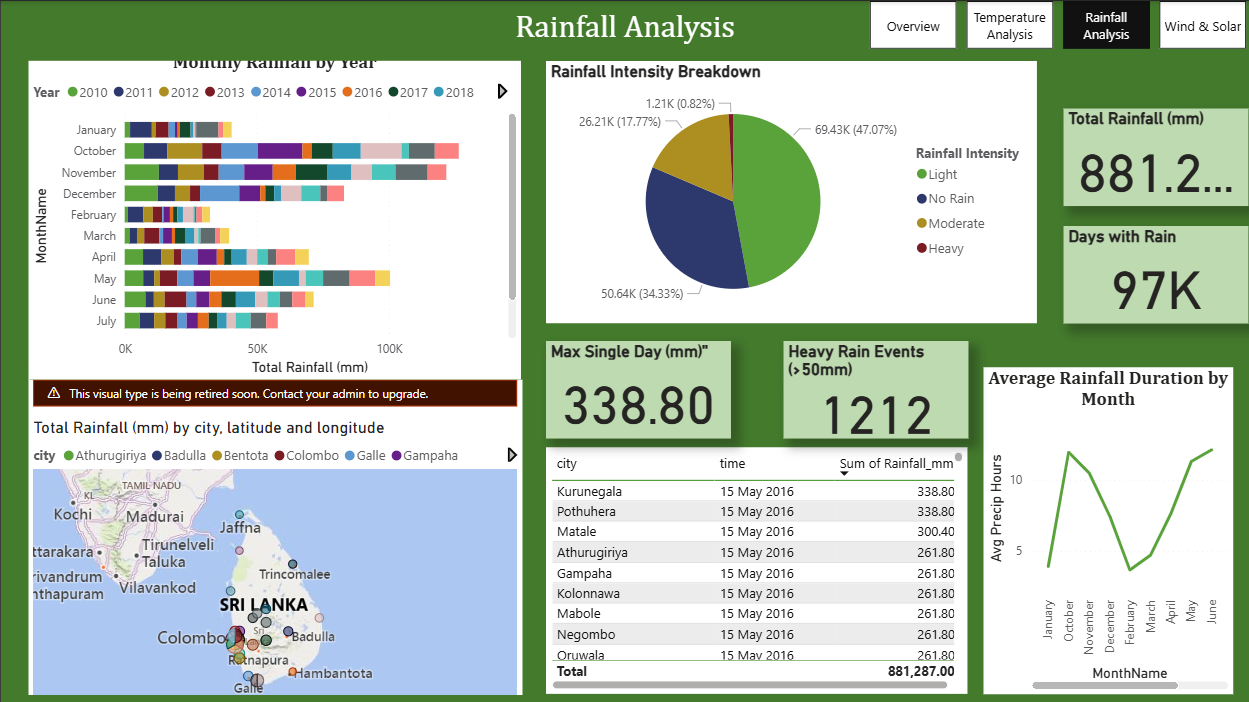

The page's visual inventory and layout, read from the dashboard file:
{"tool":"powerbi","page":{"name":"Rainfall Analysis","canvas":[1280,720],"ordinal":2},"visuals":[{"type":"barChart","title":"Monthly Rainfall by Year","fields":{"Category":["SriLanka_Weather_in_Years.MonthName"],"Y":["DateTable.Total Rainfall (mm)"],"Series":["DateTable.Year"]},"box":[28.6,51.4,505,337.1],"z":0},{"type":"map","fields":{"Y":["SriLanka_Weather_in_Years.latitude"],"X":["SriLanka_Weather_in_Years.longitude"],"Series":["SriLanka_Weather_in_Years.city"],"Size":["DateTable.Total Rainfall (mm)"]},"box":[28.3,388.7,505.7,322.6],"z":1},{"type":"lineChart","title":"Average Rainfall Duration by Month","fields":{"Category":["SriLanka_Weather_in_Years.MonthName"],"Y":["DateTable.Avg Precip Hours"]},"box":[1007.4,375,255.9,335.3],"z":2},{"type":"tableEx","fields":{"Values":["SriLanka_Weather_in_Years.city","SriLanka_Weather_in_Years.time","Sum(SriLanka_Weather_in_Years.Rainfall_mm)"]},"box":[558.8,457.4,432.4,252.9],"z":3},{"type":"card","title":"Total Rainfall (mm)","fields":{"Values":["DateTable.Total Rainfall (mm)"]},"box":[1089.7,110.3,189.7,100],"z":4},{"type":"card","title":"Days with Rain","fields":{"Values":["DateTable.Rainy Days"]},"box":[1089.7,230.9,189.7,100],"z":5},{"type":"card","title":"Heavy Rain Events (>50mm)","fields":{"Values":["DateTable.Heavy Rain Days"]},"box":[801.5,348.5,189.7,100],"z":6},{"type":"card","title":"Max Single Day (mm)\"","fields":{"Values":["DateTable.Max Rainfall Day"]},"box":[558.8,348.5,189.7,100],"z":7},{"type":"pieChart","title":"Rainfall Intensity Breakdown","fields":{"Category":["SriLanka_Weather_in_Years.Rainfall Intensity"],"Y":["CountNonNull(SriLanka_Weather_in_Years.time)"]},"box":[558.8,61.8,502.9,269.1],"z":8},{"type":"textbox","box":[0,1.5,1279.4,60.3],"z":9},{"type":"pageNavigator","box":[891.1,0,389.3,50],"z":10}]}

Visuals, with their boxes in screenshot pixels (x1, y1, x2, y2), scaled from the page's 1280x720 canvas onto the 1249x702 screenshot:
"Monthly Rainfall by Year" barChart: 28:50:521:379
map - SriLanka_Weather_in_Years.latitude x SriLanka_Weather_in_Years.longitude: 28:379:521:694
"Average Rainfall Duration by Month" lineChart: 983:366:1233:693
tableEx - SriLanka_Weather_in_Years.city x SriLanka_Weather_in_Years.time: 545:446:967:693
"Total Rainfall (mm)" card: 1063:108:1248:205
"Days with Rain" card: 1063:225:1248:323
"Heavy Rain Events (>50mm)" card: 782:340:967:437
"Max Single Day (mm)"" card: 545:340:730:437
"Rainfall Intensity Breakdown" pieChart: 545:60:1036:323
textbox: 0:1:1248:60
pageNavigator: 870:0:1248:49
